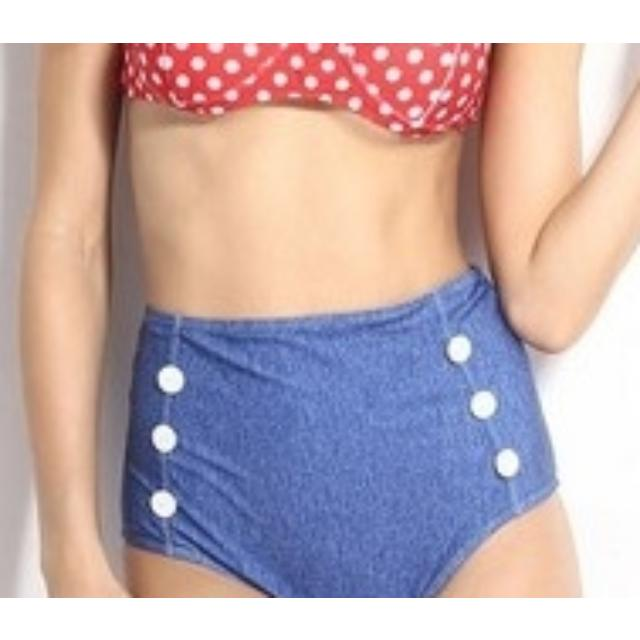polyester: (115, 42, 545, 502)
